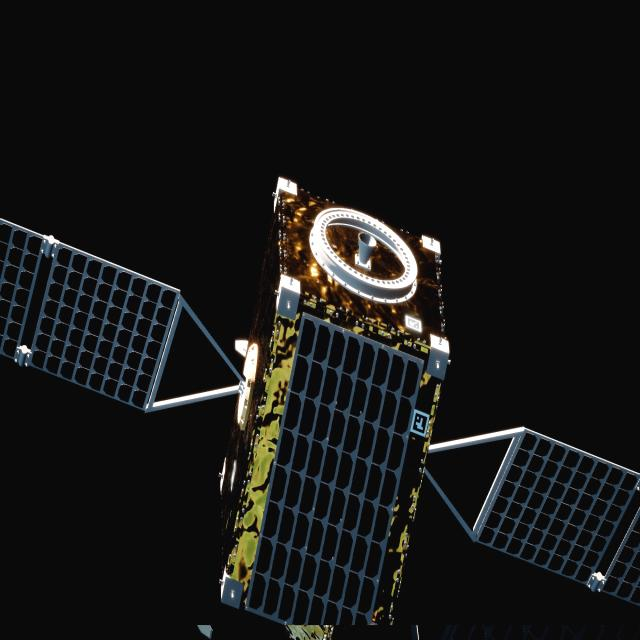satellite: (0, 177, 640, 630)
